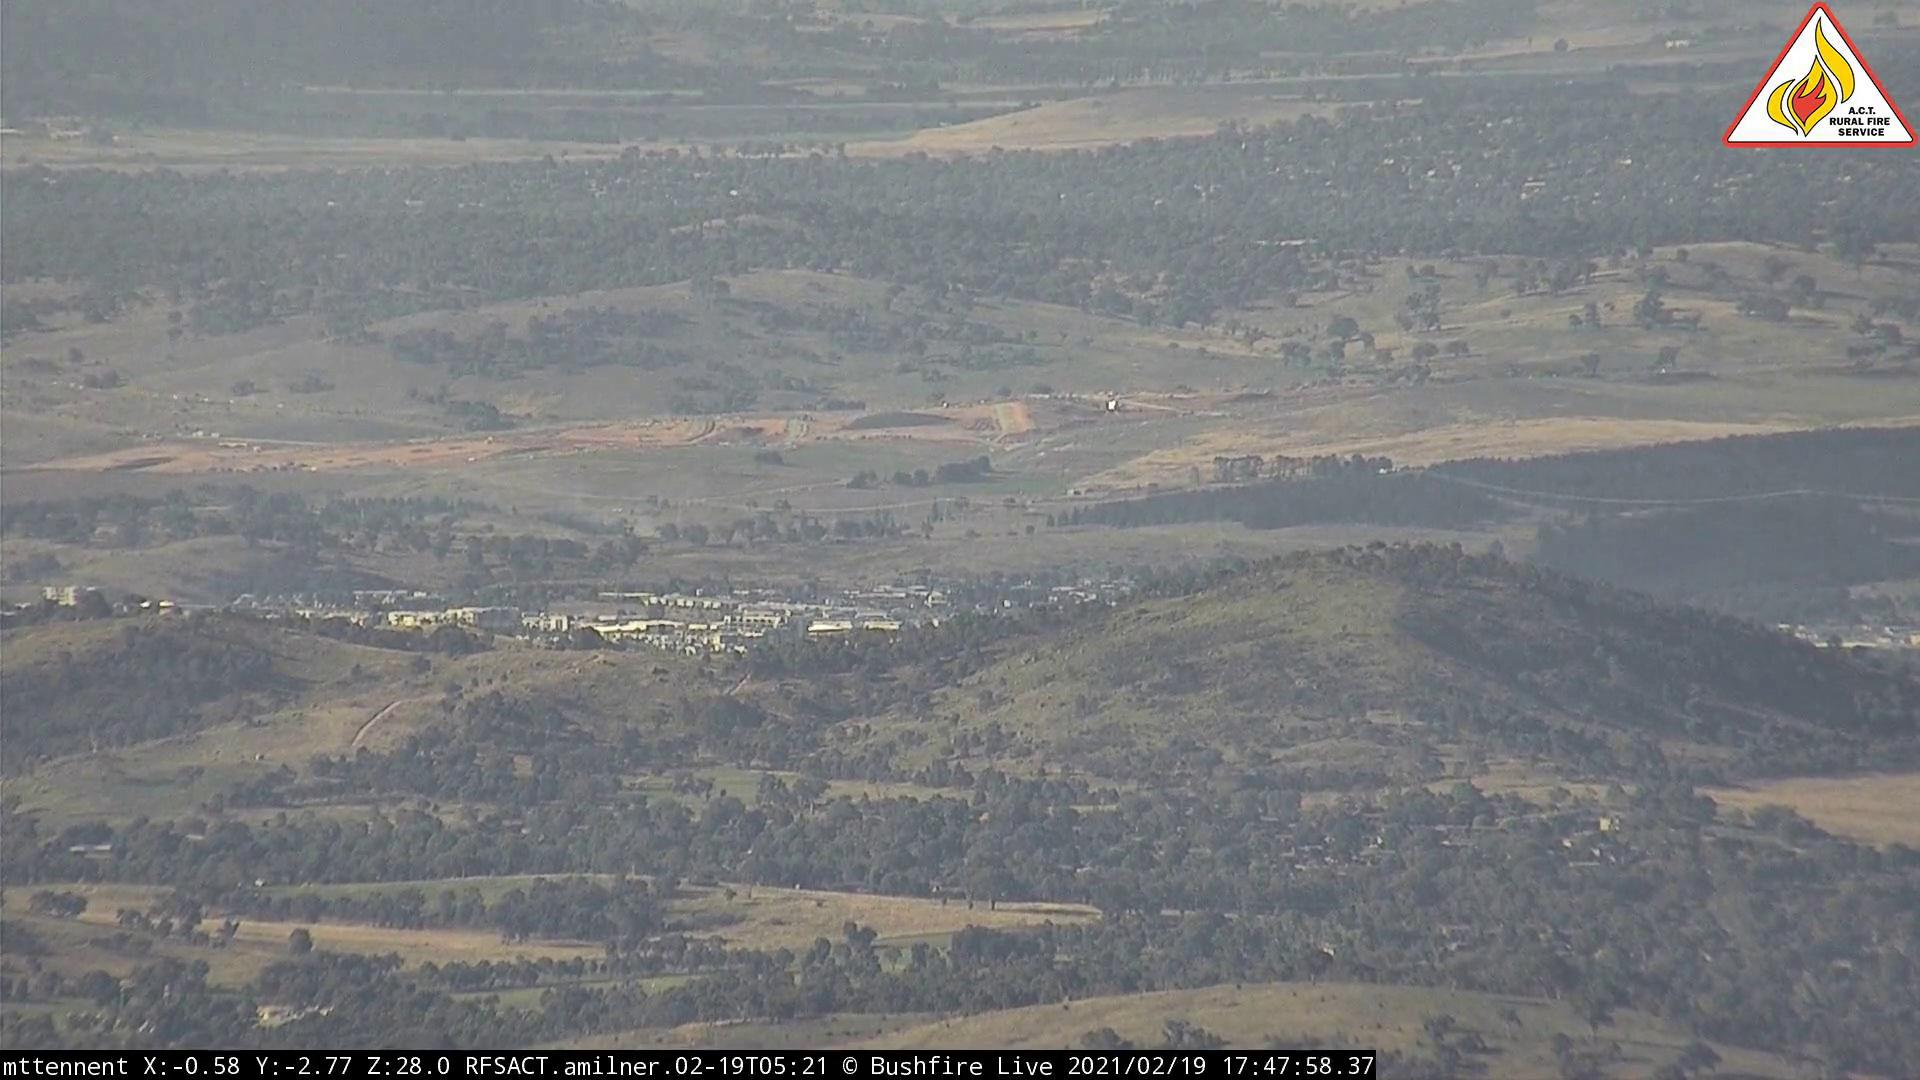Smoke: (580, 489, 678, 547), (716, 496, 773, 549)
